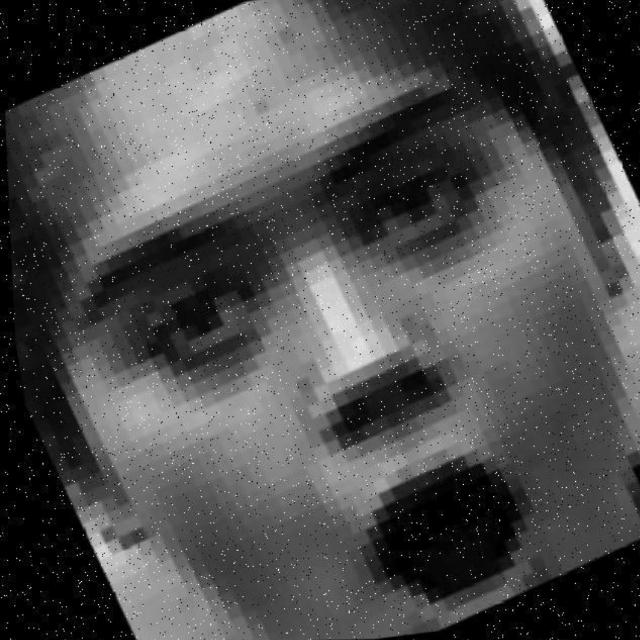Surprised: (31, 86, 640, 640)
